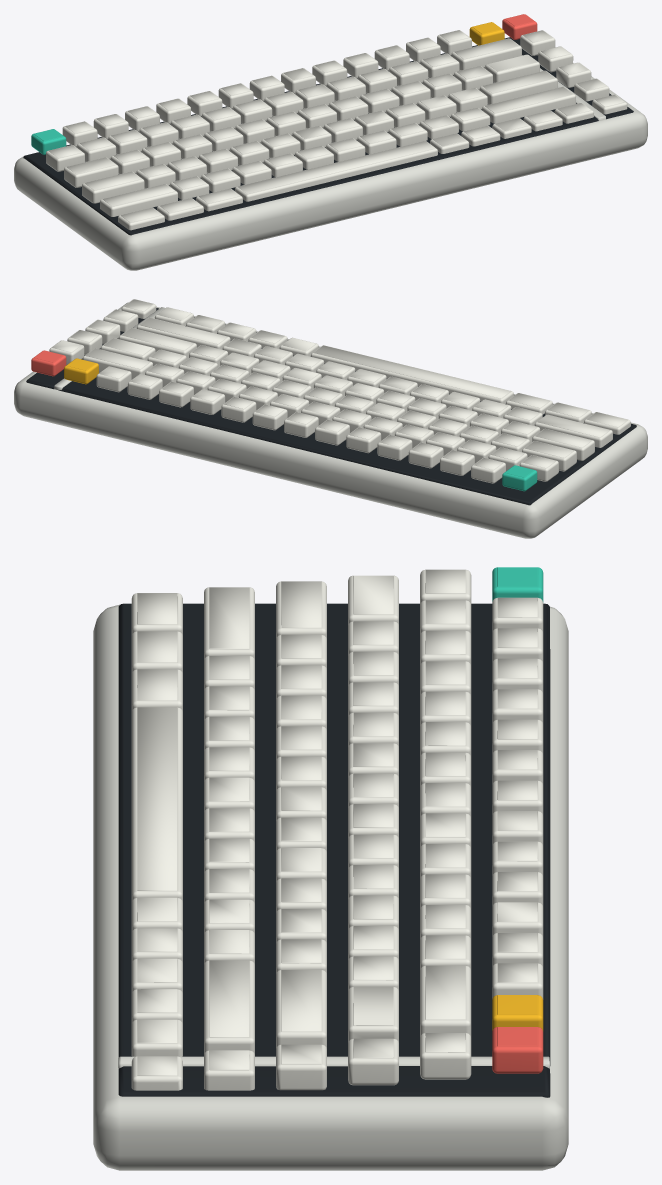
3 renders of one model, top to bottom at view 1: azimuth 30°, elevation 25°; view 2: azimuth 150°, elevation 25°; view 3: azimuth 270°, elevation 25°, orthographic. The views are drawn at different scales.
Parts seen in each view (by area): view 1: Keycap function 01, Keyboard shell, Main recessed deck, Keycap separated coral, Keycap function 00, Keycap separated yellow; view 2: Keycap function 01, Keyboard shell, Main recessed deck, Keycap function 00, Keycap separated coral, Keycap separated yellow; view 3: Keycap function 01, Main recessed deck, Keyboard shell, Keycap separated coral, Keycap separated yellow, Keycap function 00.
Part boxes in pixels (x1,y1,x2,y2): Keycap function 01: (46,30,627,230); Keyboard shell: (14,55,647,270); Main recessed deck: (23,37,633,235); Keycap separated coral: (502,14,537,39); Keycap function 00: (31,129,66,154); Keycap separated yellow: (469,22,504,45); Keycap function 01: (49,299,630,483); Keyboard shell: (14,302,647,538); Main recessed deck: (26,308,636,505); Keycap function 00: (502,465,537,491); Keycap separated coral: (31,350,66,376); Keycap separated yellow: (64,358,98,384); Keycap function 01: (131,569,543,1090); Main recessed deck: (118,603,550,1097); Keyboard shell: (93,604,568,1170); Keycap separated coral: (492,1027,543,1073); Keycap separated yellow: (492,995,543,1031); Keycap function 00: (492,567,543,602).
Bounding box in the file's own units: 0.37 × 0.0393 × 0.145.
